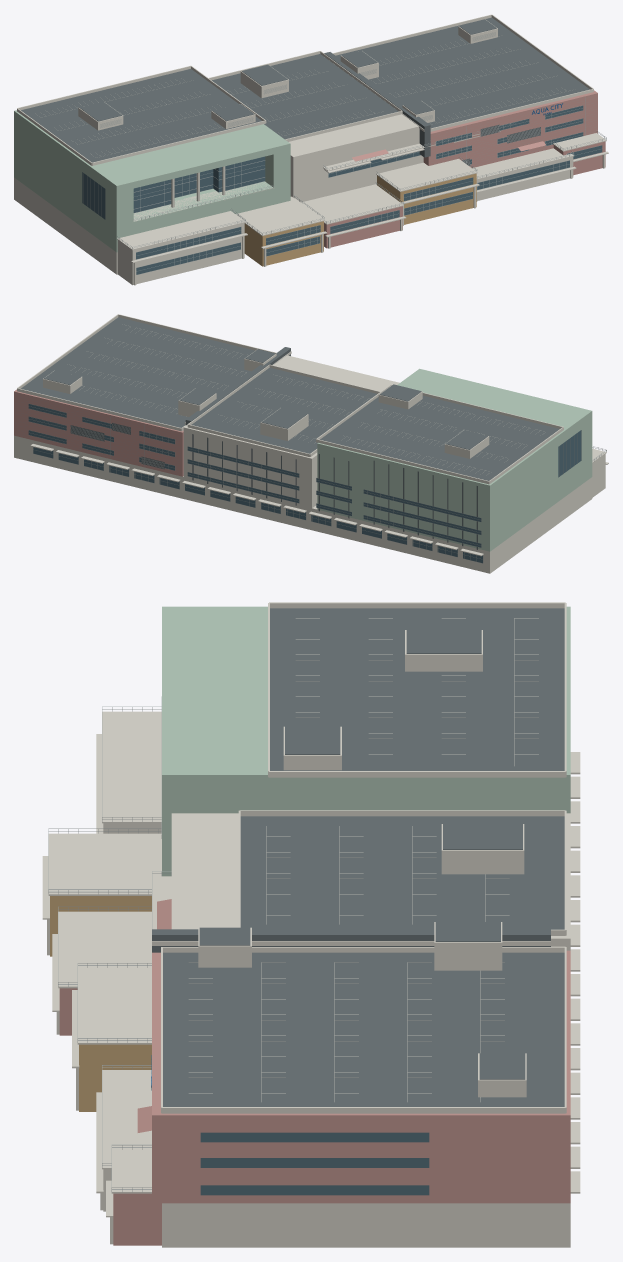
Rendered from aqua-city-odaiba.glb.
3 renders of one model, top to bottom at view 1: azimuth 30°, elevation 25°; view 2: azimuth 150°, elevation 25°; view 3: azimuth 270°, elevation 25°, orthographic. The views are drawn at different scales.
Parts seen in each view (by area): view 1: Roof_Parking_and_Parapets Roof and Shadow, Mint_End_Main Pale Mint Panels, Sea_Commercial_Setbacks Warm Ivory Structure, Central_Main Warm Ivory Structure, Pink_End_Main Muted Pink Panels, Sea_Commercial_Setbacks Dark Blue Gray Glazing, Roof_Parking_and_Parapets Warm Ivory Structure, Recessed_Glass_and_Columns Dark Blue Gray Glazing, Sea_Commercial_Setbacks Gray Frames and Railings, Sea_Commercial_Setbacks Ochre Commercial Panels, Roof_Cores Warm Ivory Structure, Roof_Cores Roof and Shadow (+9 smaller); view 2: Roof_Parking_and_Parapets Roof and Shadow, Mint_End_Main Pale Mint Panels, Main_Structure Warm Ivory Structure, Central_Main Warm Ivory Structure, Land_Facade Dark Blue Gray Glazing, Pink_End_Main Muted Pink Panels, Roof_Parking_and_Parapets Warm Ivory Structure, Land_Facade Gray Frames and Railings, Roof_Cores Warm Ivory Structure, Roof_Cores Roof and Shadow, Land_Facade Roof and Shadow, Land_Facade Warm Ivory Structure (+6 smaller); view 3: Roof_Parking_and_Parapets Roof and Shadow, Sea_Commercial_Setbacks Warm Ivory Structure, Pink_End_Main Muted Pink Panels, Mint_End_Main Pale Mint Panels, Main_Structure Warm Ivory Structure, Roof_Parking_and_Parapets Warm Ivory Structure, Roof_Cores Warm Ivory Structure, Roof_Cores Roof and Shadow, Central_Main Warm Ivory Structure, Pink_Facade_Detail Dark Blue Gray Glazing, Sea_Commercial_Setbacks Ochre Commercial Panels, Land_Facade Warm Ivory Structure (+4 smaller).
Part boxes in pixels (x1,y1,x2,y2): Roof_Parking_and_Parapets Roof and Shadow: (21, 17, 589, 162); Mint_End_Main Pale Mint Panels: (14, 110, 290, 252); Sea_Commercial_Setbacks Warm Ivory Structure: (117, 131, 608, 285); Central_Main Warm Ivory Structure: (289, 114, 419, 202); Pink_End_Main Muted Pink Panels: (423, 90, 597, 167); Sea_Commercial_Setbacks Dark Blue Gray Glazing: (136, 145, 602, 274); Roof_Parking_and_Parapets Warm Ivory Structure: (17, 14, 593, 165); Recessed_Glass_and_Columns Dark Blue Gray Glazing: (82, 156, 265, 219); Sea_Commercial_Setbacks Gray Frames and Railings: (117, 122, 606, 274); Sea_Commercial_Setbacks Ochre Commercial Panels: (244, 173, 476, 266); Roof_Cores Warm Ivory Structure: (78, 19, 497, 130); Roof_Cores Roof and Shadow: (79, 20, 496, 121); Roof_Parking_and_Parapets Roof and Shadow: (21, 317, 559, 480); Mint_End_Main Pale Mint Panels: (317, 368, 592, 551); Main_Structure Warm Ivory Structure: (14, 435, 592, 573); Central_Main Warm Ivory Structure: (183, 355, 399, 508); Land_Facade Dark Blue Gray Glazing: (33, 446, 482, 563); Pink_End_Main Muted Pink Panels: (14, 389, 183, 476); Roof_Parking_and_Parapets Warm Ivory Structure: (17, 314, 563, 484); Land_Facade Gray Frames and Railings: (33, 446, 483, 563); Roof_Cores Warm Ivory Structure: (43, 349, 489, 458); Roof_Cores Roof and Shadow: (44, 349, 487, 449); Land_Facade Roof and Shadow: (192, 434, 477, 549); Land_Facade Warm Ivory Structure: (30, 444, 483, 556); Roof_Parking_and_Parapets Roof and Shadow: (163, 608, 564, 1106); Sea_Commercial_Setbacks Warm Ivory Structure: (42, 711, 171, 1244); Pink_End_Main Muted Pink Panels: (152, 950, 570, 1203); Mint_End_Main Pale Mint Panels: (162, 606, 570, 876); Main_Structure Warm Ivory Structure: (162, 1203, 570, 1247); Roof_Parking_and_Parapets Warm Ivory Structure: (161, 602, 566, 1113); Roof_Cores Warm Ivory Structure: (198, 630, 526, 1097); Roof_Cores Roof and Shadow: (199, 630, 525, 1079); Central_Main Warm Ivory Structure: (171, 813, 570, 950); Pink_Facade_Detail Dark Blue Gray Glazing: (200, 1132, 429, 1195); Sea_Commercial_Setbacks Ochre Commercial Panels: (50, 896, 151, 1111); Land_Facade Warm Ivory Structure: (570, 752, 580, 1193).
Bounding box in the file's own units: 226 × 44.16 × 110.
